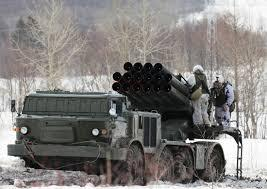MIL_SAM_TEL: (8, 59, 230, 181)
